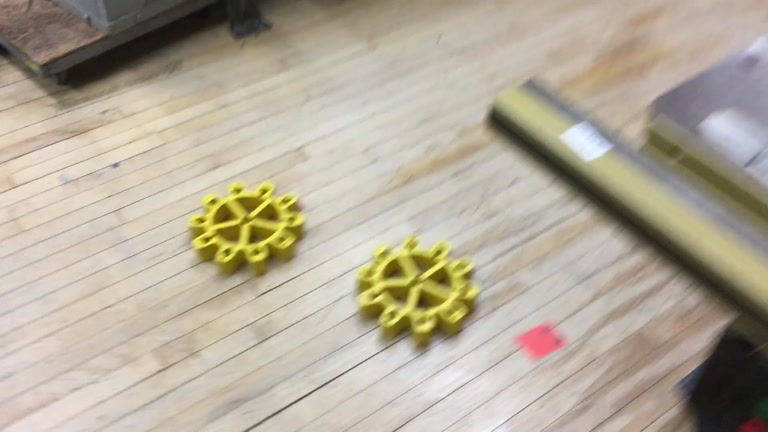gear: (353, 235, 481, 348), (187, 181, 306, 278)
